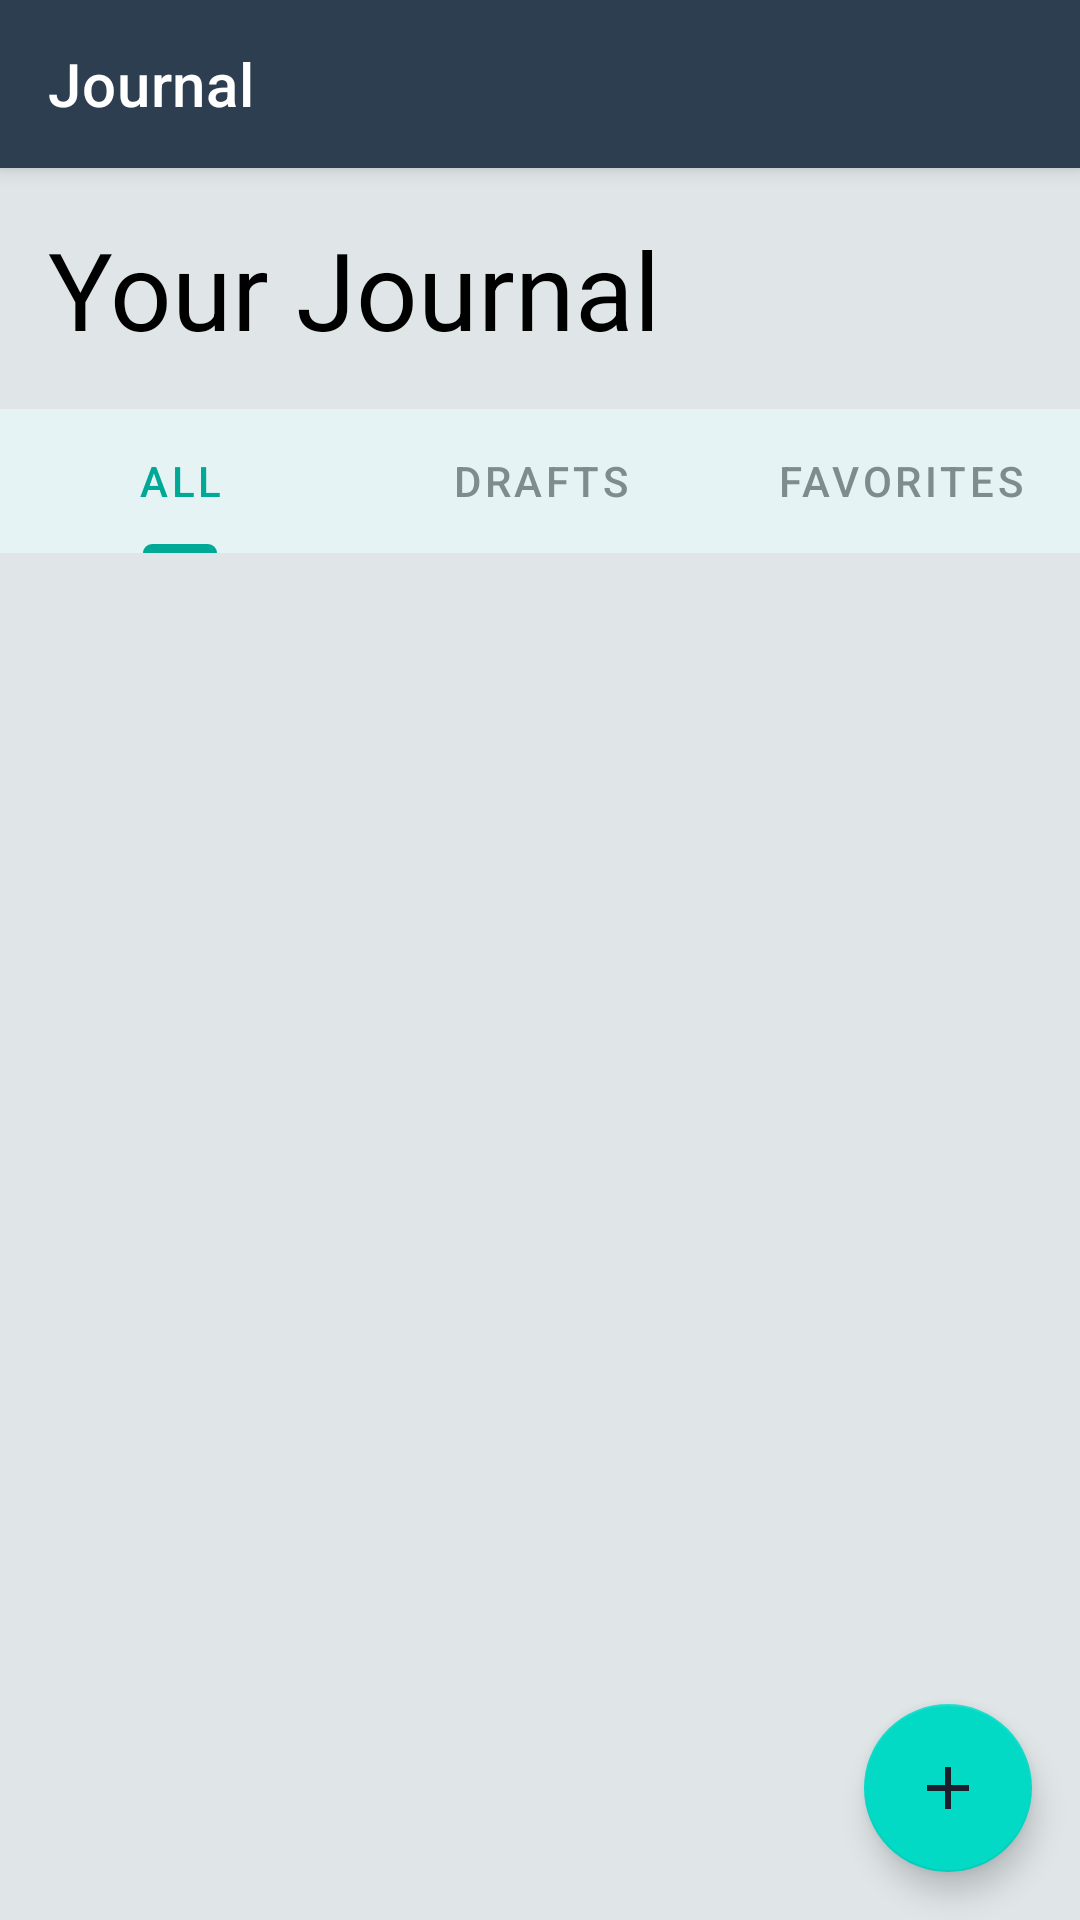

Screen size 1080×1920. Icon name, then its center in pixels as (x=x, y=y):
New Journal Entry: (x=948, y=1788)
